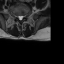CCS_normal: (19, 13, 21, 22)
LFS_normal: (23, 13, 25, 19)
LLS_normal: (21, 13, 23, 21)
RFS_normal: (15, 13, 17, 19)
RLS_normal: (17, 14, 19, 21)
